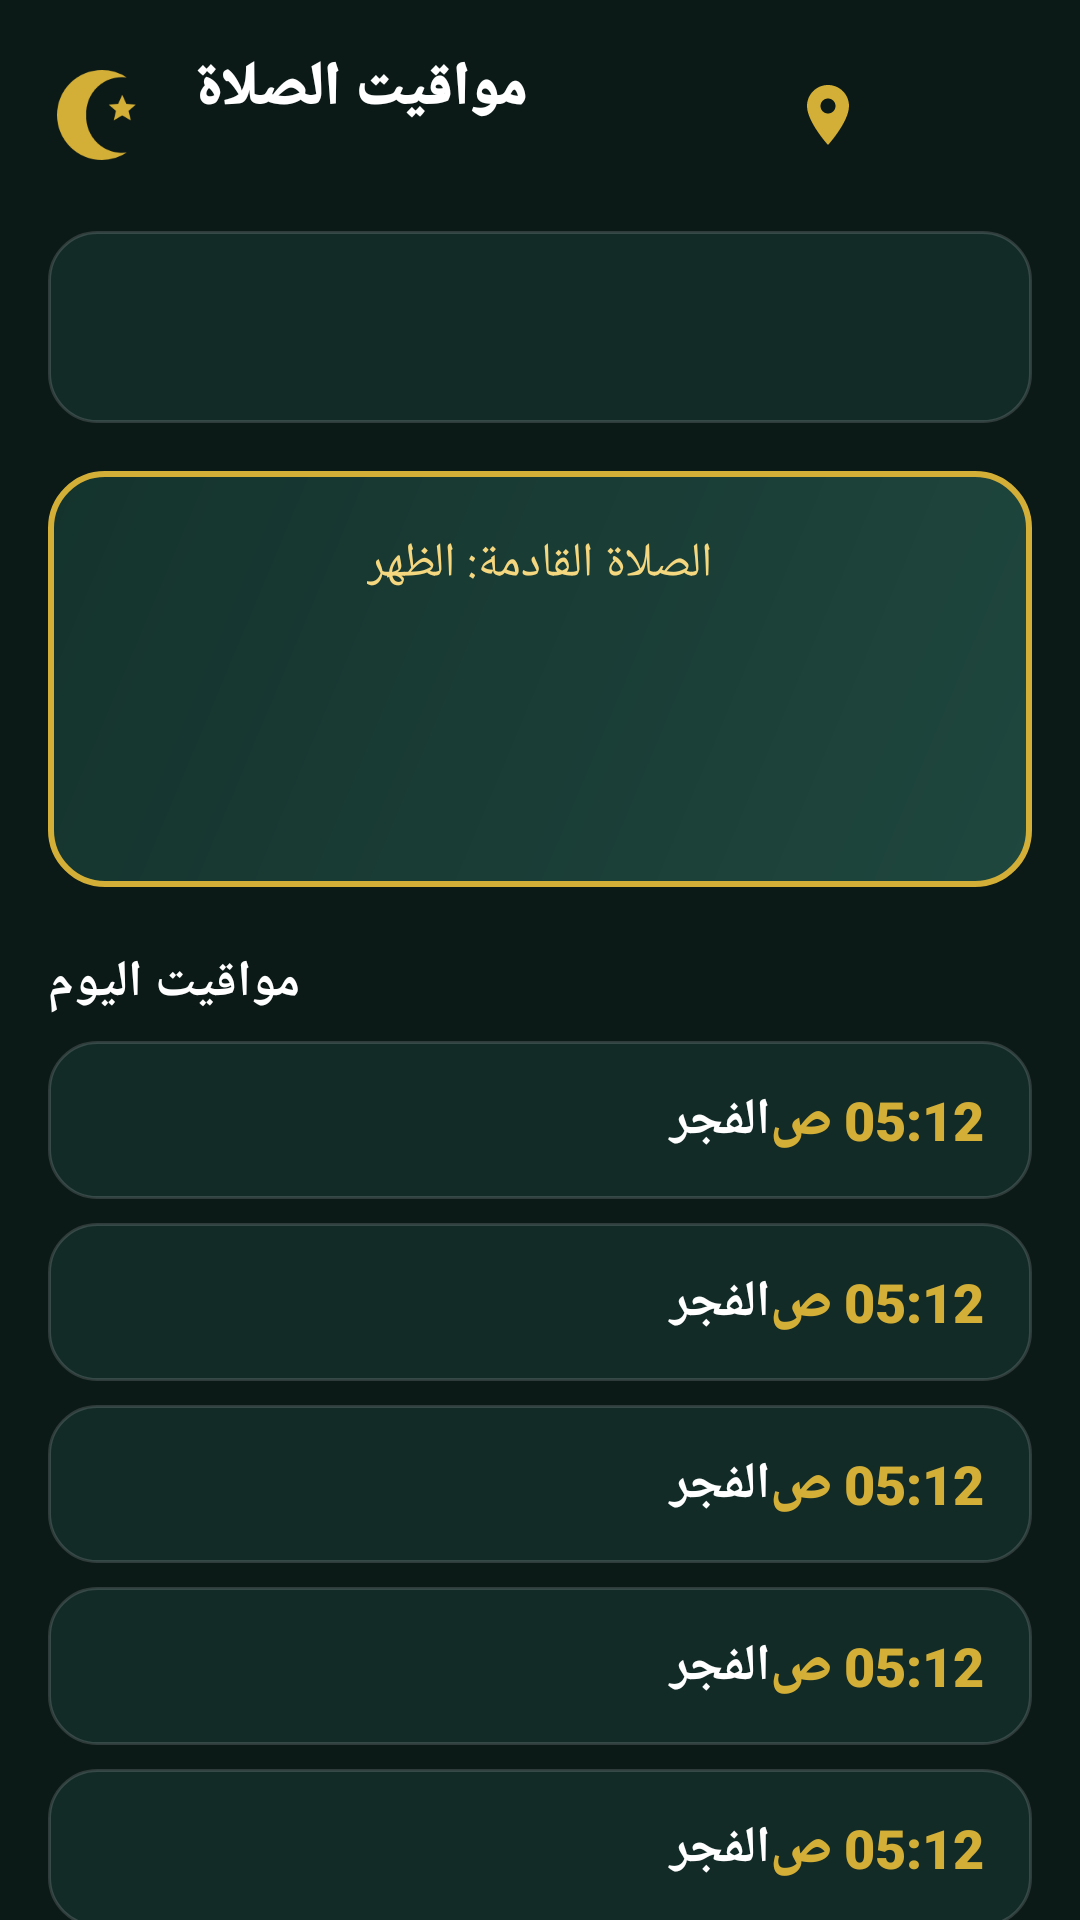

Named icons in this screenshot (1080px×1920px) and their centers, (x=x, y=y):
تحديد الموقع تلقائياً: (x=828, y=115)
